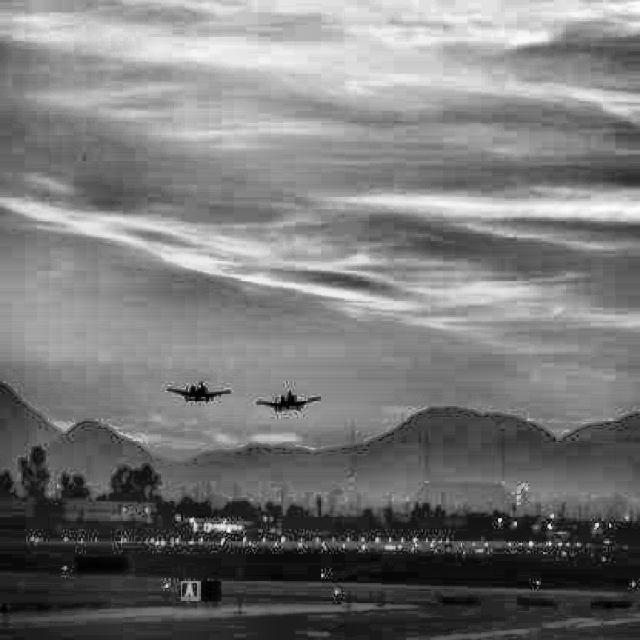A10: (257, 391, 320, 412), (167, 381, 230, 402)
